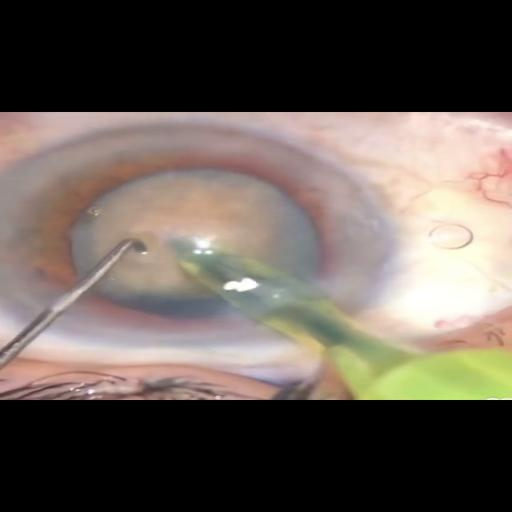catarata: (63, 170, 309, 321)
cornea: (0, 128, 424, 355)
pupil: (27, 150, 332, 332)
